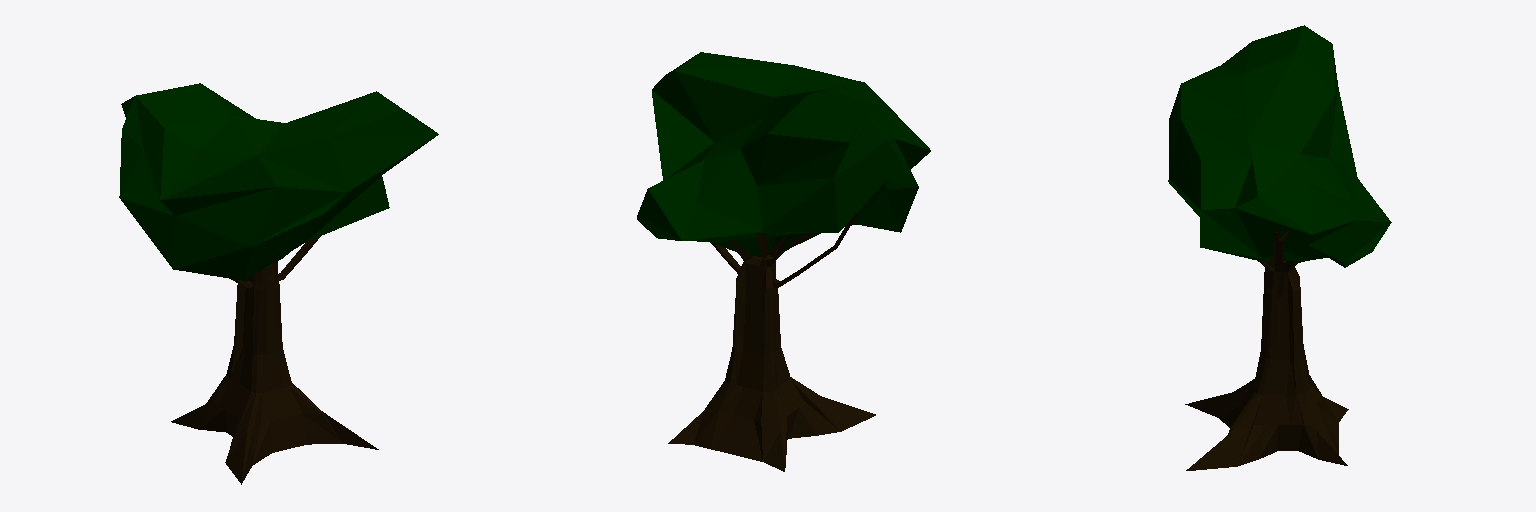
File: Tree1.obj
3 views of the same model, side by side, from view 1: azimuth 30°, elevation 25°; view 2: azimuth 150°, elevation 25°; view 3: azimuth 270°, elevation 25° (orthographic).
Parts seen in each view (by area): view 1: pCube2, pCube1; view 2: pCube2, pCube1; view 3: pCube2, pCube1.
Part boxes in pixels (x1,y1,x2,y2): pCube2: (119, 83, 438, 280); pCube1: (171, 236, 378, 484); pCube2: (637, 52, 930, 256); pCube1: (668, 207, 875, 471); pCube2: (1168, 25, 1391, 267); pCube1: (1185, 231, 1348, 470).
Size of the model in its own units: 59.83 by 71.03 by 40.25.